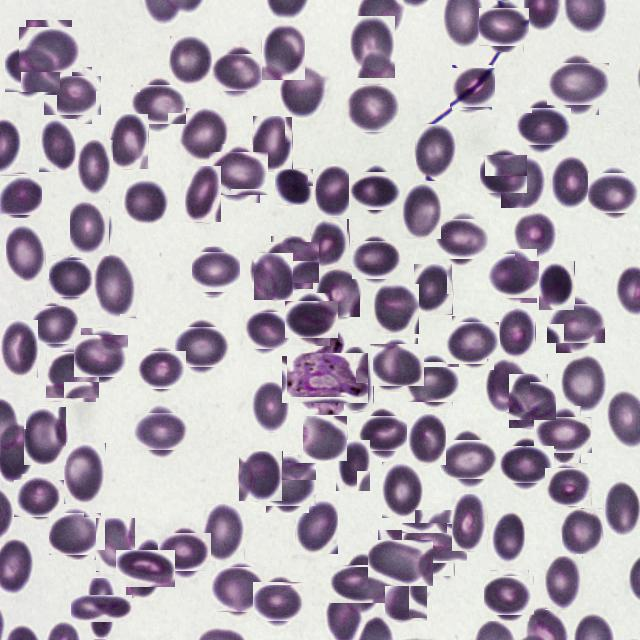red blood cell: (373, 534, 429, 590), (408, 516, 461, 570), (94, 253, 137, 319), (350, 16, 395, 78), (22, 24, 75, 76), (552, 58, 604, 110), (561, 354, 607, 412), (213, 564, 264, 616), (212, 148, 264, 199), (64, 443, 106, 505), (347, 83, 398, 134), (336, 559, 387, 610), (180, 108, 228, 162), (24, 407, 67, 466), (48, 350, 98, 400), (262, 459, 312, 509), (8, 44, 58, 94), (262, 23, 305, 80), (490, 251, 539, 301), (203, 504, 245, 562), (281, 63, 326, 117), (444, 434, 492, 484), (552, 299, 600, 348), (501, 156, 546, 208), (6, 225, 46, 283), (178, 322, 226, 370), (48, 72, 96, 120), (134, 80, 182, 128), (372, 341, 420, 389), (449, 319, 497, 367), (268, 238, 316, 286), (121, 544, 169, 592), (382, 462, 423, 518), (416, 124, 456, 181), (487, 359, 530, 412), (296, 500, 338, 554), (409, 358, 456, 406), (77, 332, 125, 379), (374, 284, 419, 334), (238, 451, 282, 502), (253, 116, 293, 172), (70, 201, 110, 257), (439, 215, 486, 262), (52, 510, 98, 558), (0, 320, 38, 378), (110, 114, 149, 170), (539, 412, 586, 458), (96, 518, 136, 572), (604, 479, 640, 538), (504, 442, 550, 488), (591, 170, 637, 216), (215, 50, 261, 96), (138, 409, 184, 455), (162, 529, 208, 575), (520, 104, 566, 150), (288, 296, 334, 342), (352, 168, 398, 214), (506, 378, 552, 424), (185, 166, 222, 223), (170, 36, 212, 86), (403, 184, 441, 239), (452, 494, 488, 552), (354, 237, 400, 282), (302, 415, 348, 460), (78, 586, 124, 631), (123, 179, 167, 226), (551, 156, 590, 209), (317, 269, 360, 317), (545, 556, 583, 610), (562, 508, 603, 558), (256, 579, 301, 624), (487, 573, 532, 618), (76, 140, 113, 194), (316, 166, 355, 217), (414, 264, 453, 315), (407, 414, 446, 465), (482, 4, 526, 49), (39, 119, 76, 172), (515, 212, 555, 261), (344, 347, 374, 412), (252, 382, 290, 433), (362, 412, 406, 456), (35, 303, 79, 347), (17, 477, 61, 521), (194, 250, 238, 294), (140, 348, 184, 392), (311, 219, 350, 268), (488, 510, 524, 563), (252, 253, 292, 300), (451, 66, 494, 109), (482, 153, 525, 196), (246, 308, 288, 352), (384, 578, 428, 620), (500, 308, 536, 359), (336, 440, 371, 492), (49, 258, 92, 300), (539, 261, 575, 311), (548, 466, 590, 508), (0, 176, 41, 217), (275, 168, 313, 205)
trophozoite: (290, 344, 360, 412)
